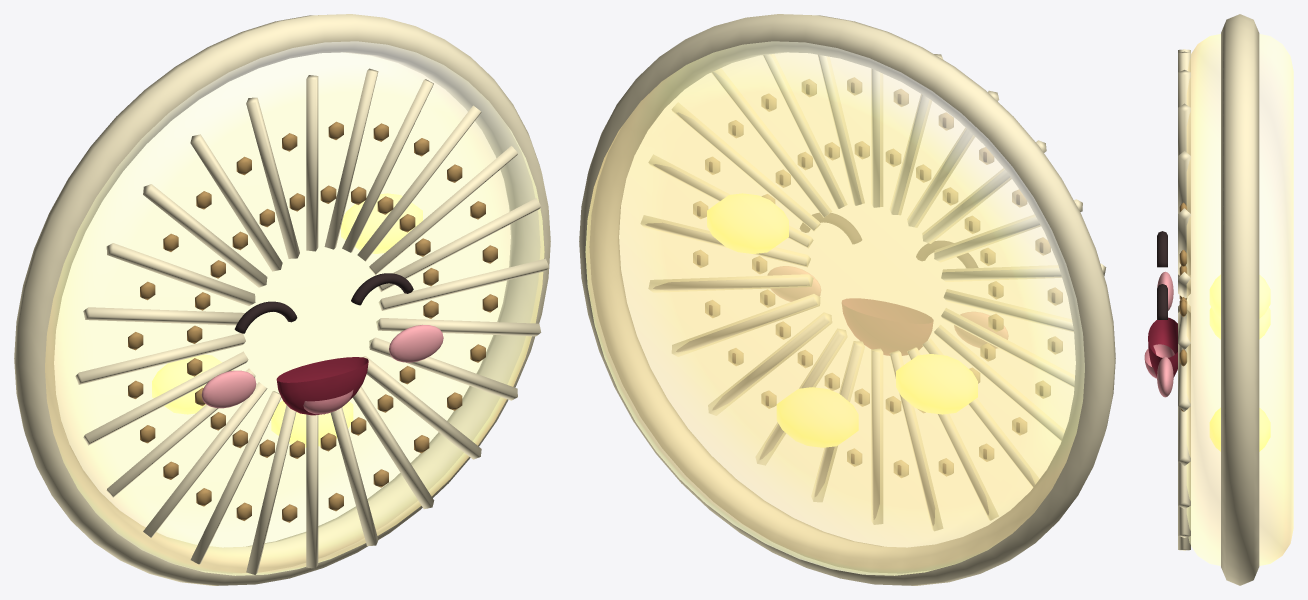
File: P04_Dia_Diatom.glb
The picture shows the model from 3 angles, left to right: view 1: azimuth 30°, elevation 25°; view 2: azimuth 150°, elevation 25°; view 3: azimuth 270°, elevation 25°; orthographic projection. The views are drawn at different scales.
Visible parts, largest first — view 1: P04_Dia_Diatom_Mesh, P04_Mouth, P04_Cheek_L, P04_Cheek_R, P04_Eye_R, P04_Eye_L; view 2: P04_Dia_Diatom_Mesh, P04_Mouth, P04_Cheek_R, P04_Cheek_L; view 3: P04_Dia_Diatom_Mesh, P04_Mouth, P04_Cheek_R, P04_Eye_L, P04_Tongue, P04_Eye_R, P04_Cheek_L.
Boxes of the visible parts, <box> form: P04_Dia_Diatom_Mesh: <box>14,14,550,585</box>; P04_Mouth: <box>276,357,368,415</box>; P04_Cheek_L: <box>201,370,256,408</box>; P04_Cheek_R: <box>389,325,443,362</box>; P04_Eye_R: <box>351,273,413,305</box>; P04_Eye_L: <box>234,301,297,333</box>; P04_Dia_Diatom_Mesh: <box>579,14,1115,585</box>; P04_Mouth: <box>842,298,933,355</box>; P04_Cheek_R: <box>768,266,820,301</box>; P04_Cheek_L: <box>954,312,1008,348</box>; P04_Dia_Diatom_Mesh: <box>1178,14,1293,585</box>; P04_Mouth: <box>1148,317,1177,377</box>; P04_Cheek_R: <box>1157,357,1173,397</box>; P04_Eye_L: <box>1157,231,1167,267</box>; P04_Tongue: <box>1144,344,1174,378</box>; P04_Eye_R: <box>1157,284,1167,319</box>; P04_Cheek_L: <box>1157,271,1173,310</box>.
Size of the model in its own units: 0.536 by 0.536 by 0.1395.
